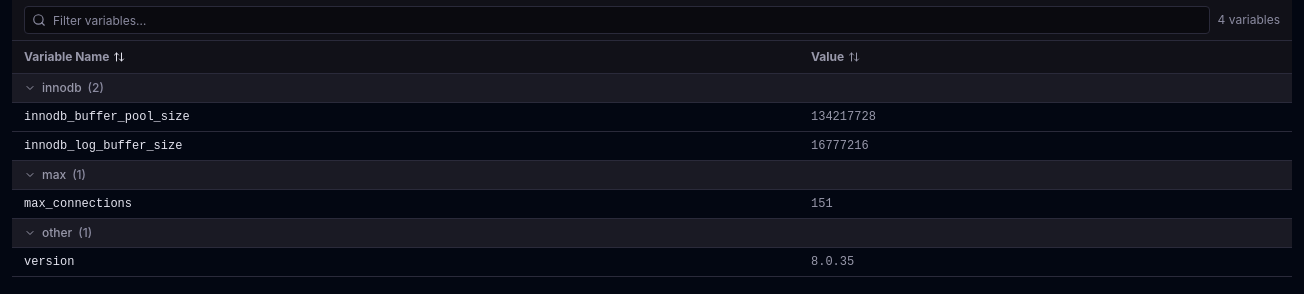
Test case: ServerVariablesTab filter and keyboard (#824) › counts the filtered variables against the total
Check: the button "max_connections" is shown, box [24,196,148,212]
Check: the text "4 variables" is shown, box [1218,12,1280,28]
Step 1. Type "buffer" into the field with placeholder "Filter variables…" → (617, 20), box [24,6,1210,34]
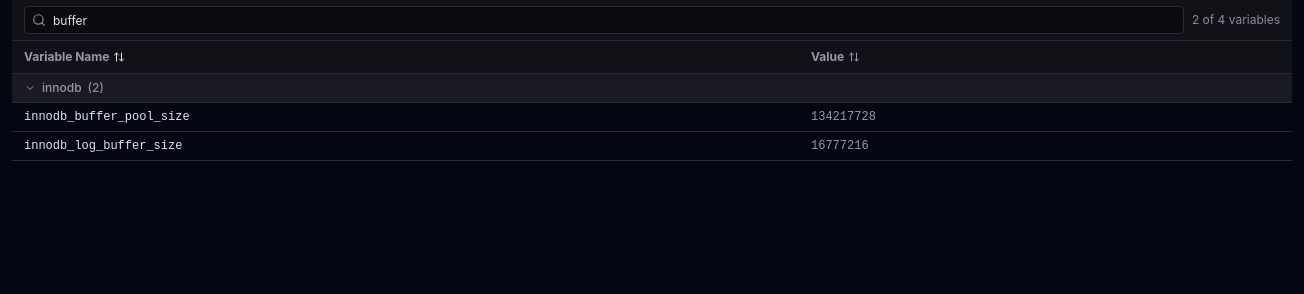
Check: the text "2 of 4 variables" is shown, box [1192,12,1280,28]
